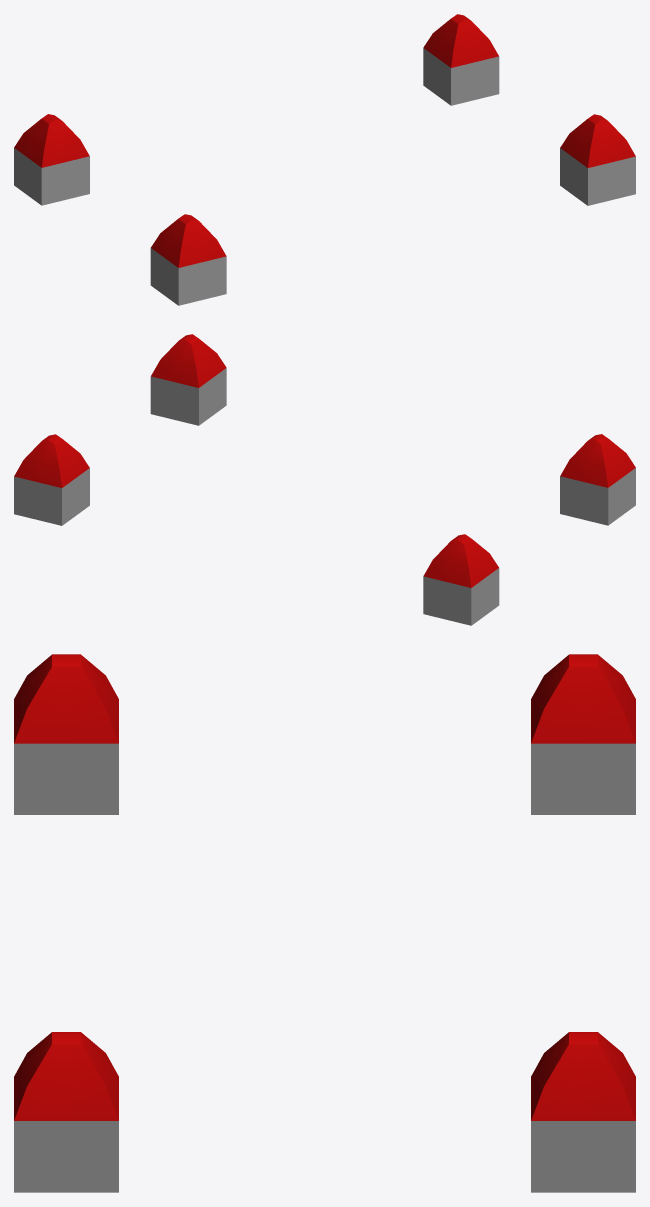
File: Lever_Lights.fbx
The picture shows the model from 3 angles, top to bottom: view 1: azimuth 30°, elevation 25°; view 2: azimuth 150°, elevation 25°; view 3: azimuth 270°, elevation 25°; orthographic projection. The views are drawn at different scales.
Parts seen in each view (by area): view 1: pCube1, pCube3, pCube2, pCube4; view 2: pCube2, pCube4, pCube1, pCube3; view 3: pCube4, pCube3, pCube2, pCube1.
Boxes of the visible parts, <box> form: pCube1: <box>150,214,226,305</box>; pCube3: <box>423,14,499,105</box>; pCube2: <box>14,114,89,205</box>; pCube4: <box>560,114,635,205</box>; pCube2: <box>423,534,499,625</box>; pCube4: <box>150,334,226,425</box>; pCube1: <box>560,434,635,525</box>; pCube3: <box>14,434,89,525</box>; pCube4: <box>14,1032,118,1192</box>; pCube3: <box>531,1032,635,1192</box>; pCube2: <box>531,654,635,814</box>; pCube1: <box>14,654,118,814</box>.
Size of the model in its own units: 3.13 by 0.4773 by 1.95.
